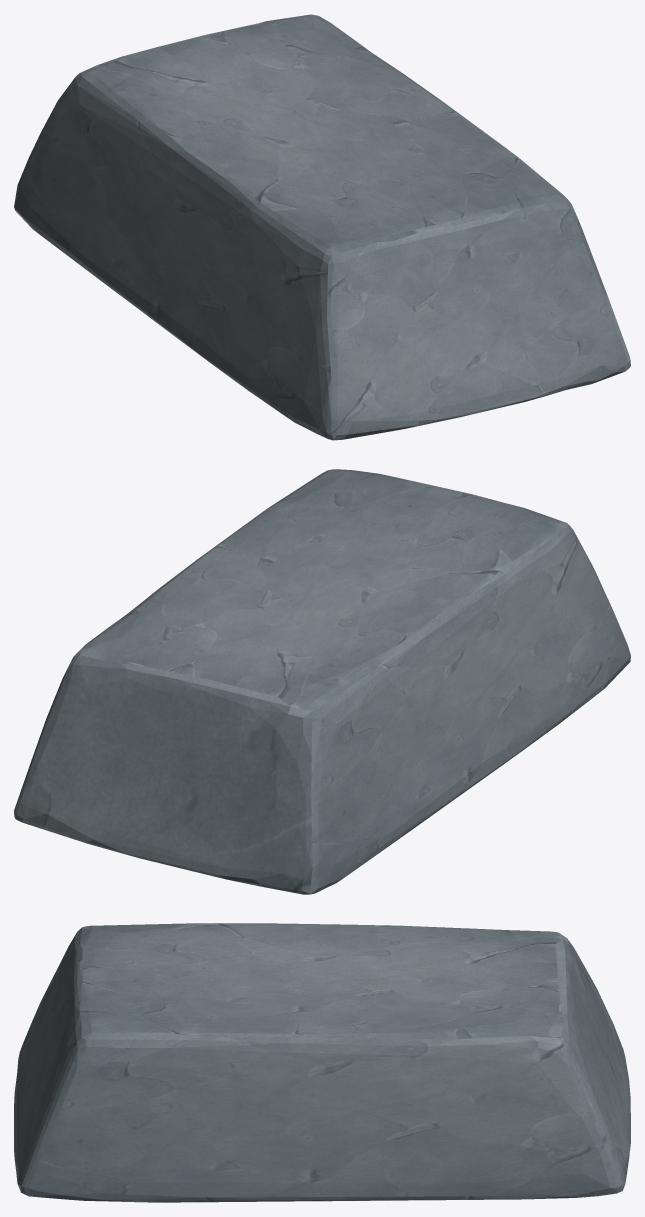
File: Item_IronIngot.glb
3 views of the same model, one above another, from view 1: azimuth 30°, elevation 25°; view 2: azimuth 150°, elevation 25°; view 3: azimuth 270°, elevation 25° (orthographic). The views are drawn at different scales.
Parts seen in each view (by area): view 1: Cube.019; view 2: Cube.019; view 3: Cube.019.
Part boxes in pixels (left/top/right/bottom): Cube.019: left=14, top=14, right=630, bottom=440; Cube.019: left=14, top=469, right=630, bottom=894; Cube.019: left=14, top=923, right=630, bottom=1202.
Size of the model in its own units: 0.536 by 0.2772 by 0.9681.
1 material, 1 textured.
